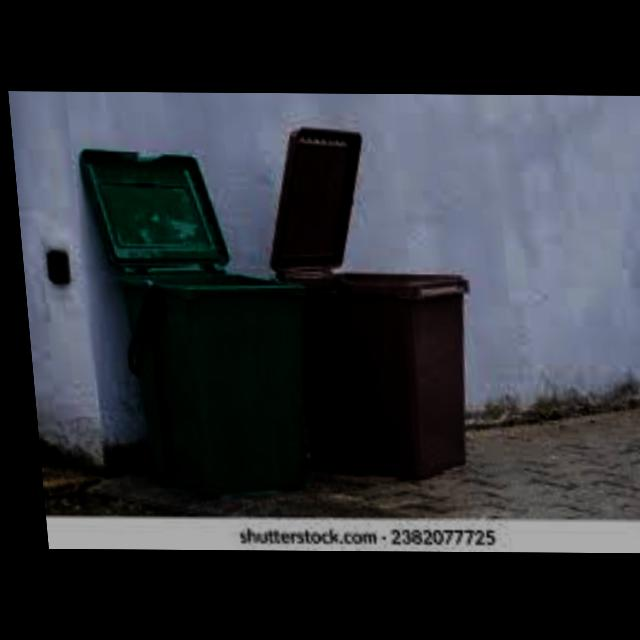Trash_Can_Empty: (112, 270, 315, 498), (275, 272, 478, 481)
